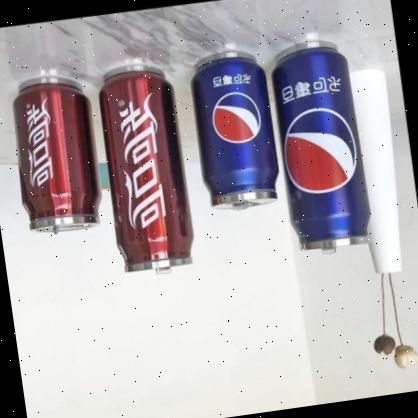can: (264, 39, 377, 258), (88, 63, 202, 278), (4, 69, 109, 241), (186, 50, 286, 217)
